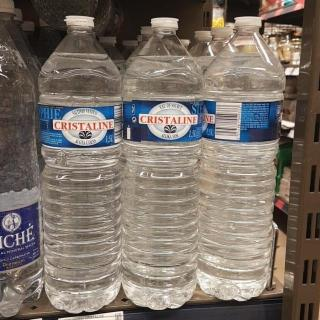Plastic-bottle: (34, 13, 126, 317), (118, 9, 204, 315), (203, 11, 285, 309), (1, 6, 43, 320)
